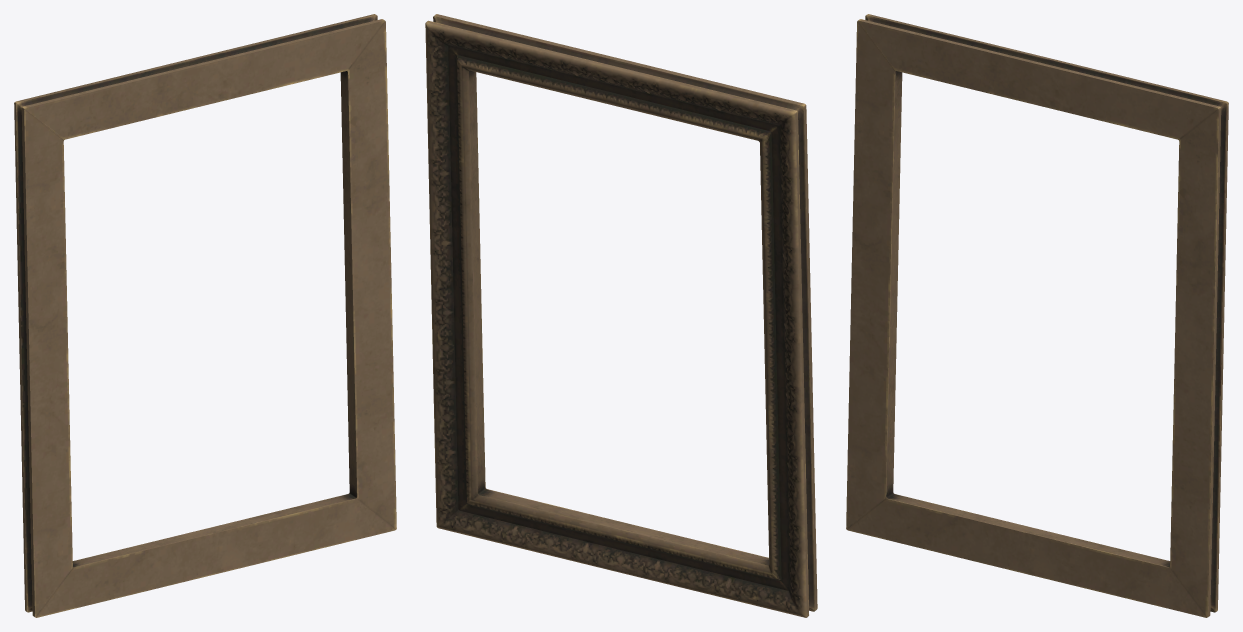
The model's file is Frame.fbx.
3 renders of one model, left to right at view 1: azimuth 30°, elevation 25°; view 2: azimuth 150°, elevation 25°; view 3: azimuth 330°, elevation 25°, orthographic. The views are drawn at different scales.
Visible parts, largest first — view 1: Mona_Lisa1; view 2: Mona_Lisa1; view 3: Mona_Lisa1.
Boxes of the visible parts, bbox=[...] form: Mona_Lisa1: bbox=[14, 14, 396, 617]; Mona_Lisa1: bbox=[425, 14, 817, 617]; Mona_Lisa1: bbox=[846, 14, 1228, 617].
Size of the model in its own units: 77.66 by 103 by 8.29.
